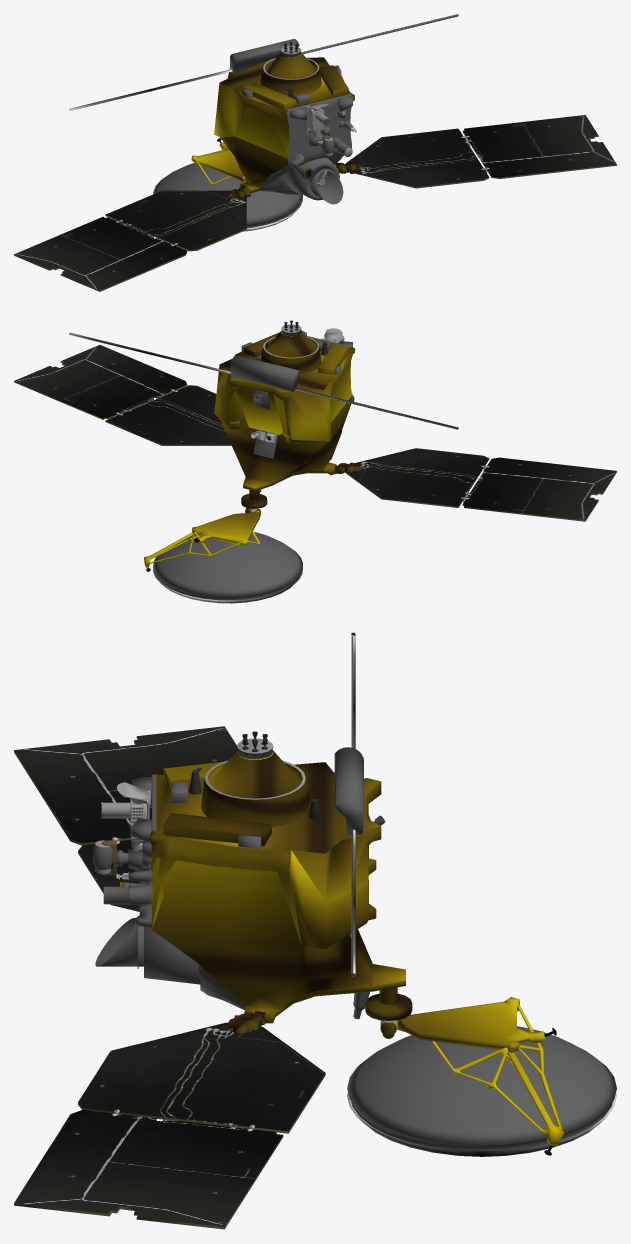
Rendered from mro.glb.
The picture shows the model from 3 angles, top to bottom: view 1: azimuth 30°, elevation 25°; view 2: azimuth 150°, elevation 25°; view 3: azimuth 270°, elevation 25°; orthographic projection. The views are drawn at different scales.
Visible parts, largest first — view 1: tex_01, tex_02, foil_gold, black_krinkle, foil_silver2; view 2: foil_gold, tex_01, tex_02, black_krinkle, foil_silver2; view 3: foil_gold, tex_01, black_krinkle, tex_02, foil_silver2.
Boxes of the visible parts, left/top/right/bottom form: tex_01: left=14, top=46, right=616, bottom=291; tex_02: left=106, top=128, right=488, bottom=249; foil_gold: left=191, top=52, right=360, bottom=198; black_krinkle: left=153, top=39, right=353, bottom=228; foil_silver2: left=69, top=14, right=458, bottom=231; foil_gold: left=144, top=331, right=360, bottom=568; tex_01: left=14, top=324, right=616, bottom=571; tex_02: left=106, top=385, right=488, bottom=506; black_krinkle: left=153, top=330, right=352, bottom=600; foil_silver2: left=69, top=320, right=458, bottom=603; foil_gold: left=120, top=748, right=564, bottom=1146; tex_01: left=14, top=726, right=556, bottom=1229; black_krinkle: left=93, top=747, right=616, bottom=1151; tex_02: left=78, top=840, right=325, bottom=1131; foil_silver2: left=189, top=632, right=616, bottom=1156.
Bounding box in the file's own units: 13.18 × 4.88 × 6.71.
5 materials, 4 textured.
